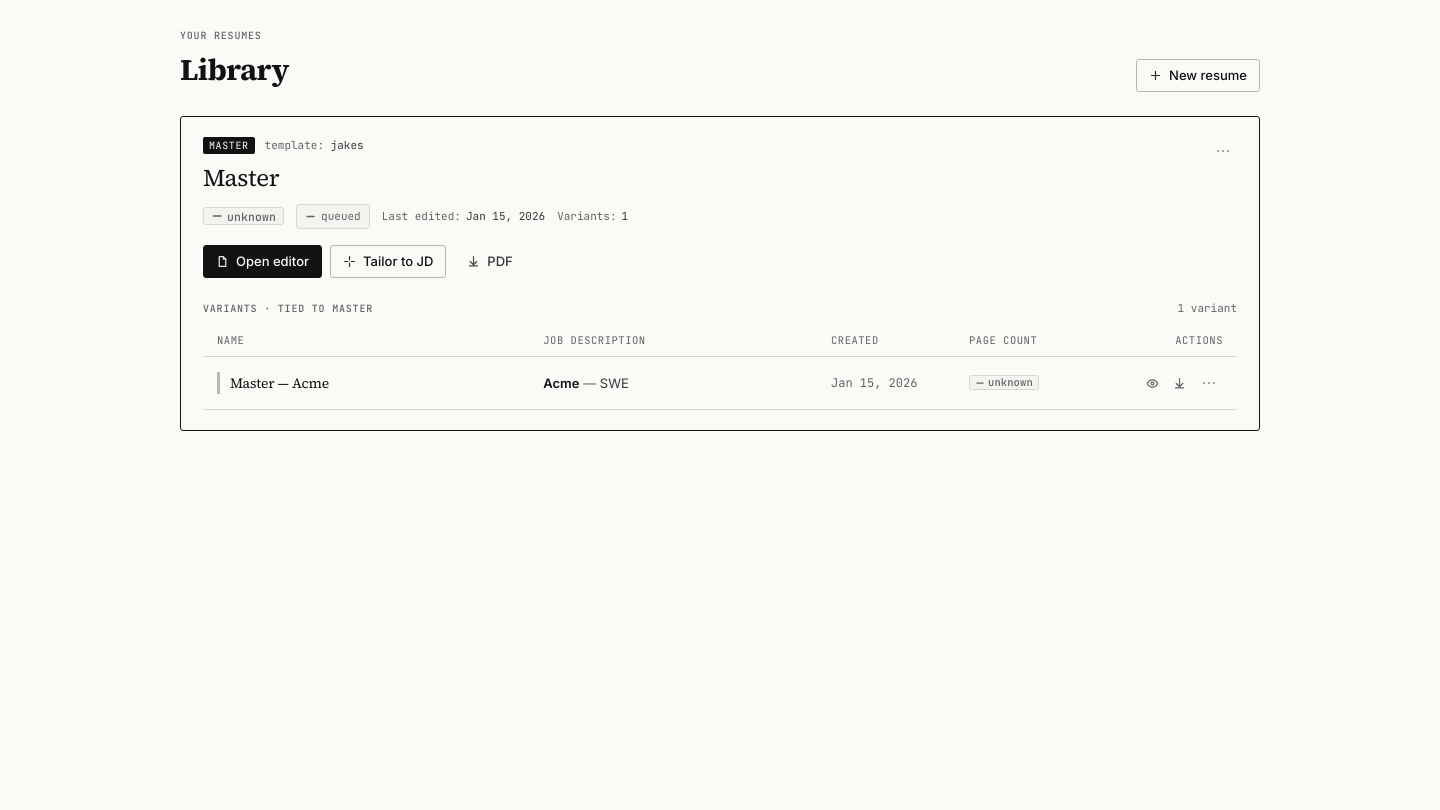
Scenario: opens TailorModal when Tailor button clicked
Expected: the element with test id "master-card" is shown, left=180, top=116, right=1260, bottom=431
Click the button "Tailor to JD": (388, 261) left=330, top=244, right=446, bottom=278
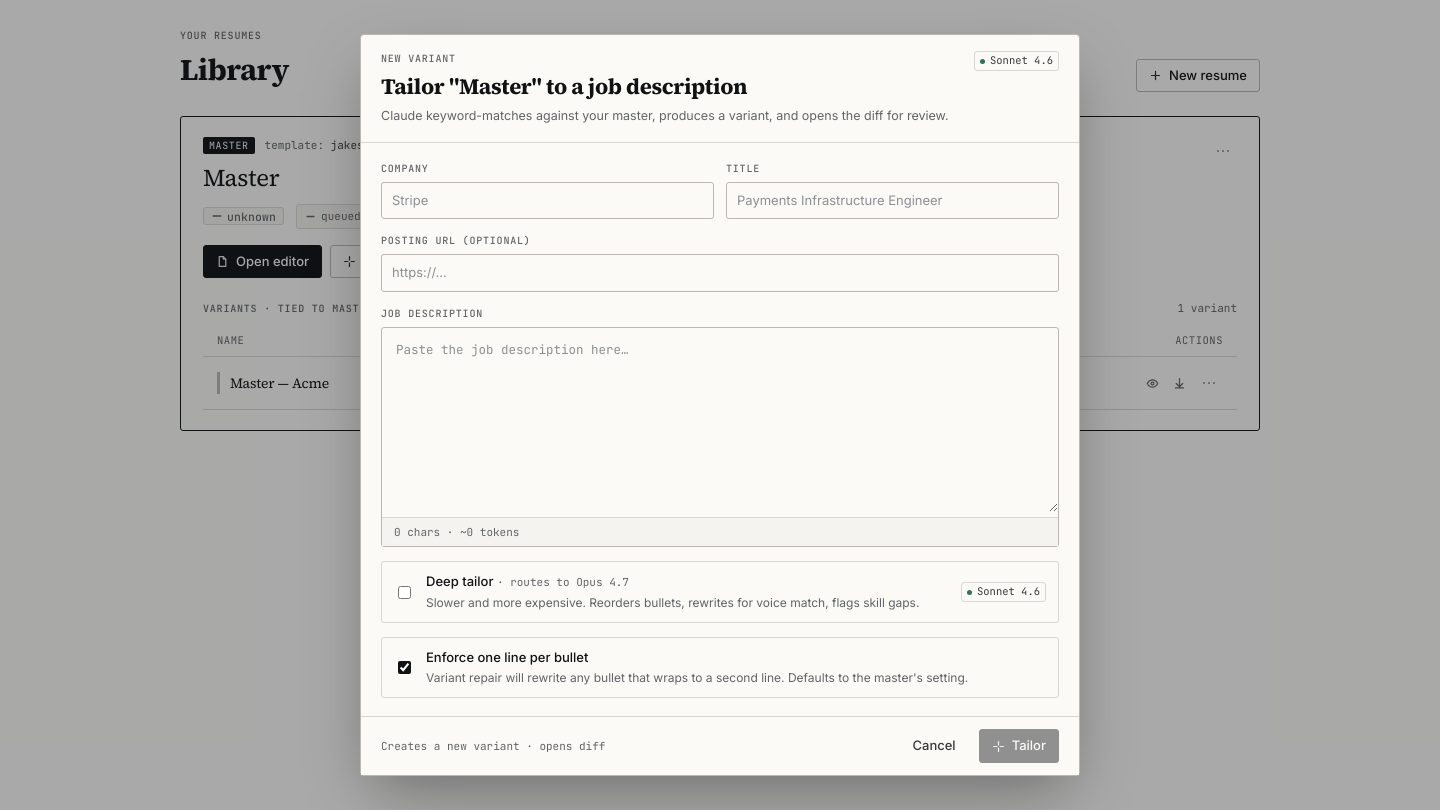
Expected: the dialog named "tailor to jd" is shown
